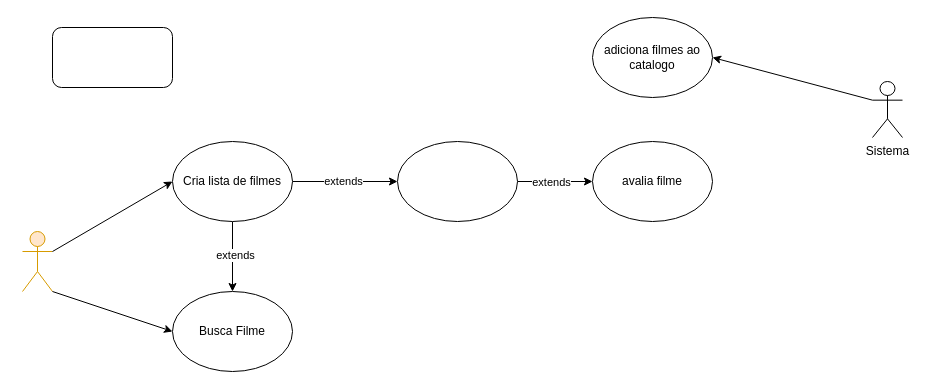
This 926x389 diagram has some shape labels left out. The box of each missing label's shape, as (x1, y1, x2, y2) in pixels:
Adiciona Filme: (396, 140, 518, 222)
CASO DE USO: (52, 26, 172, 88)
Usuario: (22, 230, 52, 292)
